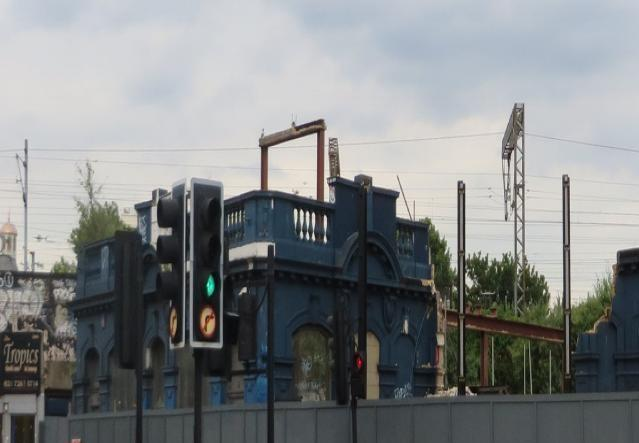green_light: (191, 179, 224, 346)
